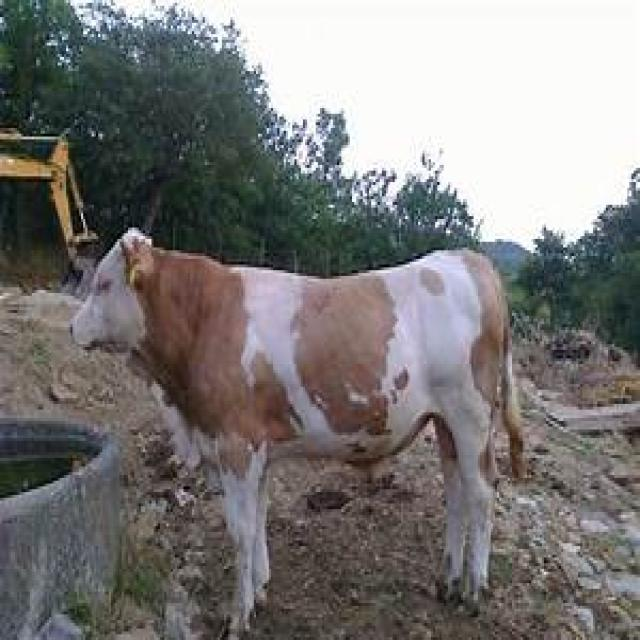cow: (68, 230, 527, 637)
